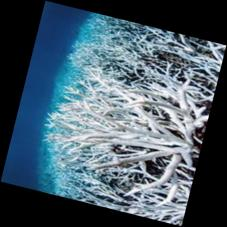bleached_corals: (29, 9, 226, 226)
